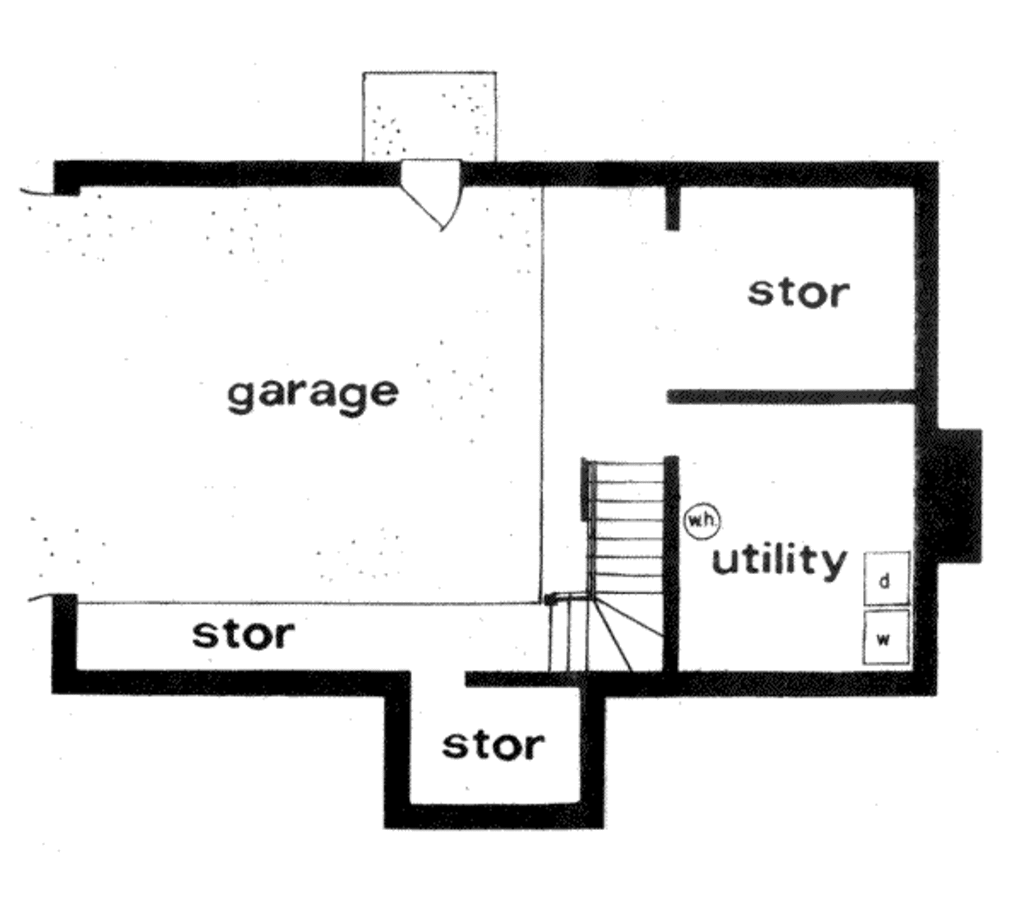door: (386, 148, 465, 233)
stairs: (543, 420, 676, 680)
